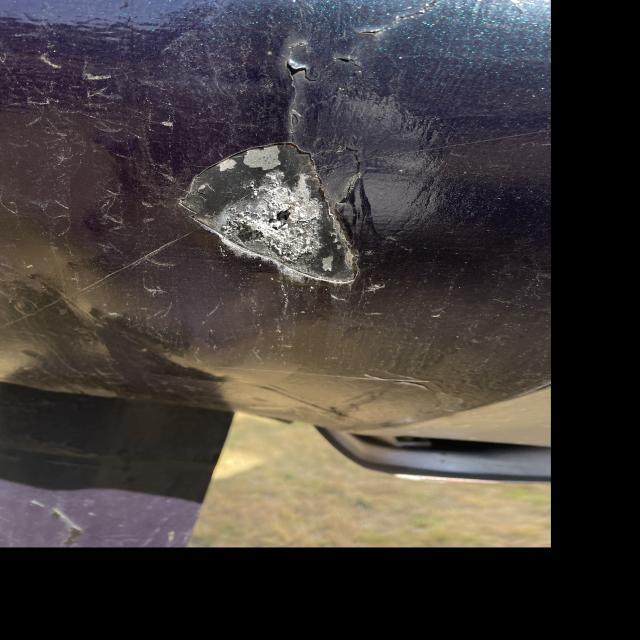crack: (270, 48, 373, 86), (344, 4, 454, 33)
dent: (162, 134, 407, 300)
